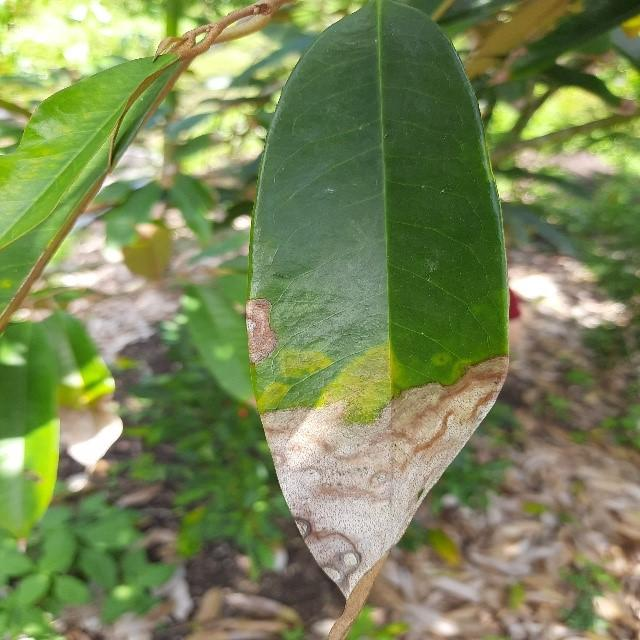Leaf Blight: (241, 0, 515, 640)
